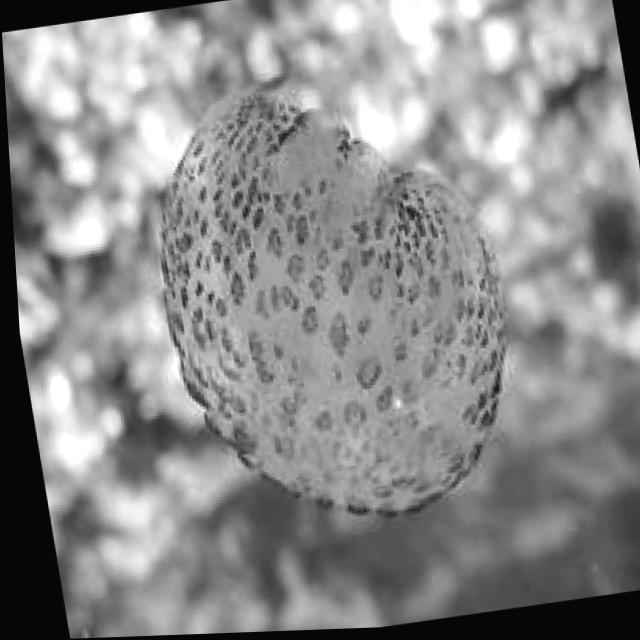Box-jellyfish: (121, 49, 534, 553)
